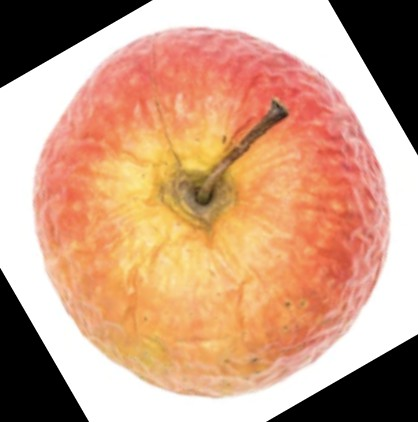rotten_apple: (32, 27, 391, 397)
